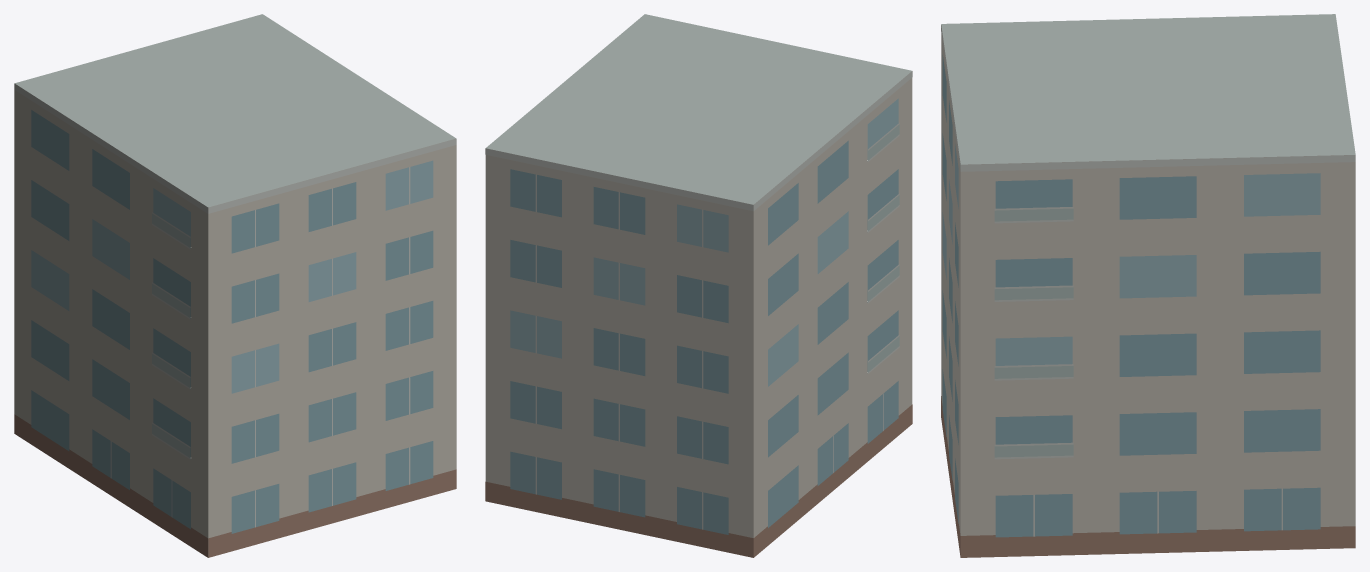
The model's file is survey-upis-32946453.glb.
3 renders of one model, left to right at view 1: azimuth 30°, elevation 25°; view 2: azimuth 150°, elevation 25°; view 3: azimuth 270°, elevation 25°, orthographic. The views are drawn at different scales.
Visible parts, largest first — view 1: survey-upis-32946453.tmp; view 2: survey-upis-32946453.tmp; view 3: survey-upis-32946453.tmp.
Boxes of the visible parts, x1,y1,x2,y2 form: survey-upis-32946453.tmp: (14,14,456,557); survey-upis-32946453.tmp: (485,14,912,557); survey-upis-32946453.tmp: (941,14,1355,557).
Bounding box in the file's own units: 10.94 × 13.3 × 12.72.
